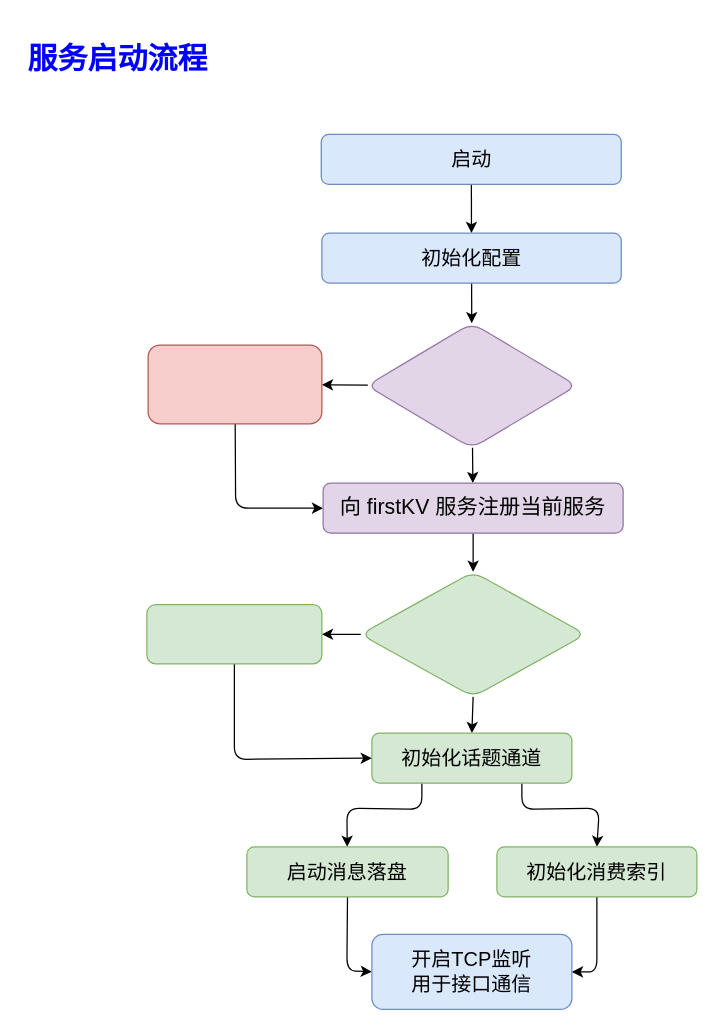
Image size: 719x1031. Some labels were removed from this diagram. The shapes that lost their labels are listed below. From the top down, each one's centre as x and y in pixels, then its label:
At pixel 234 384: "当前为主服务 开启 firstKV 服务".
At pixel 471 385: "初始化 firstKV服务".
At pixel 234 633: "话题为空 创建默认话题".
At pixel 472 634: "初始化话题".
